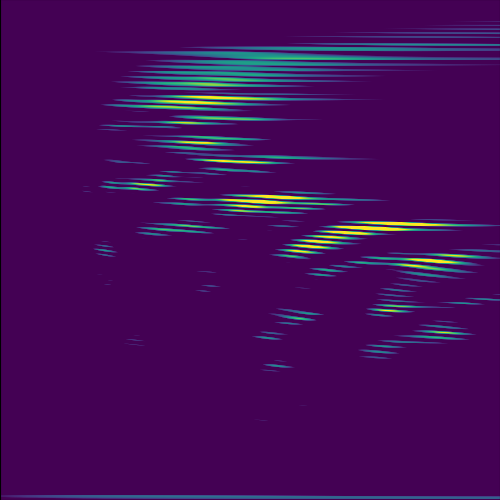semblance: (276, 216, 457, 262), (206, 190, 352, 220), (115, 91, 280, 115), (369, 248, 482, 278), (182, 154, 347, 170), (157, 135, 251, 154)
